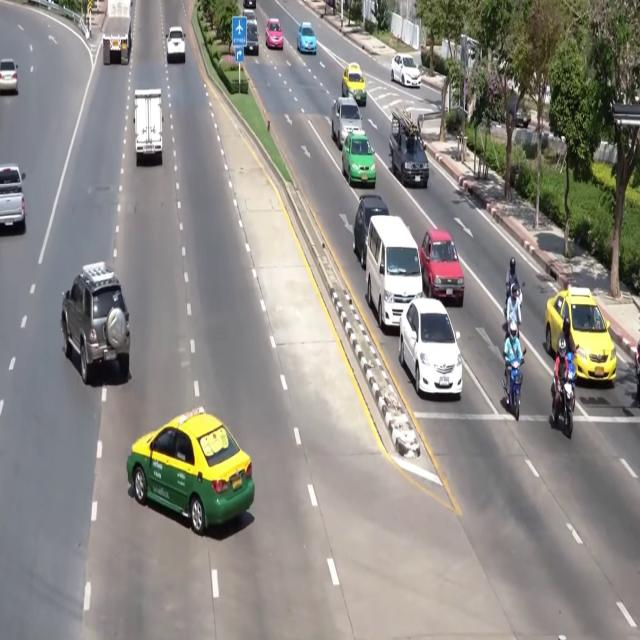car: (127, 407, 254, 535), (61, 262, 130, 383), (545, 286, 616, 383), (399, 297, 462, 398), (419, 229, 464, 306), (353, 194, 389, 268), (342, 130, 376, 187), (331, 97, 363, 150), (342, 63, 366, 106), (392, 54, 421, 87), (508, 96, 531, 127), (167, 26, 185, 63), (0, 59, 18, 94), (265, 18, 284, 50), (297, 22, 316, 54), (244, 20, 258, 55), (243, 9, 256, 23), (243, 0, 256, 9)
scooty: (554, 352, 575, 438), (503, 348, 526, 420), (635, 342, 639, 404), (503, 291, 510, 322), (503, 292, 509, 322)
truck: (390, 107, 429, 187), (134, 89, 163, 165), (103, 0, 132, 64), (0, 165, 25, 232)
